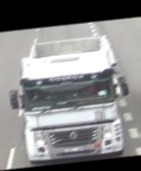truck: (17, 33, 125, 163)
